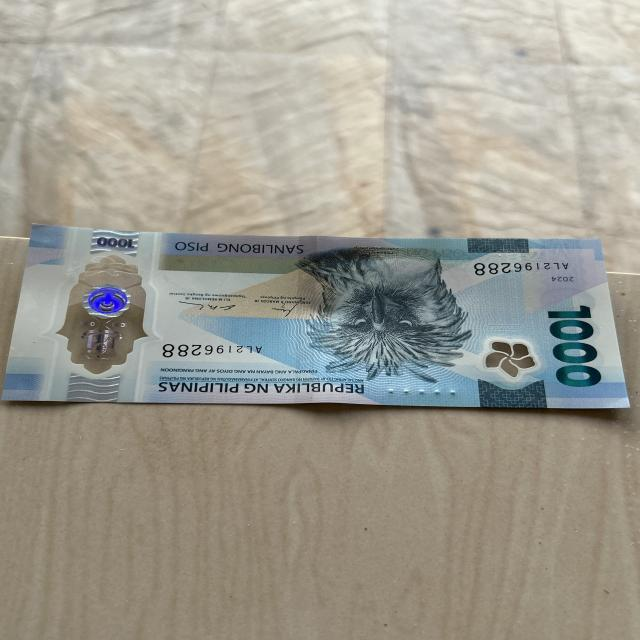clear_window: (55, 248, 148, 378)
optically_variable_device: (293, 248, 461, 378)
sampaguita: (481, 337, 534, 377)
